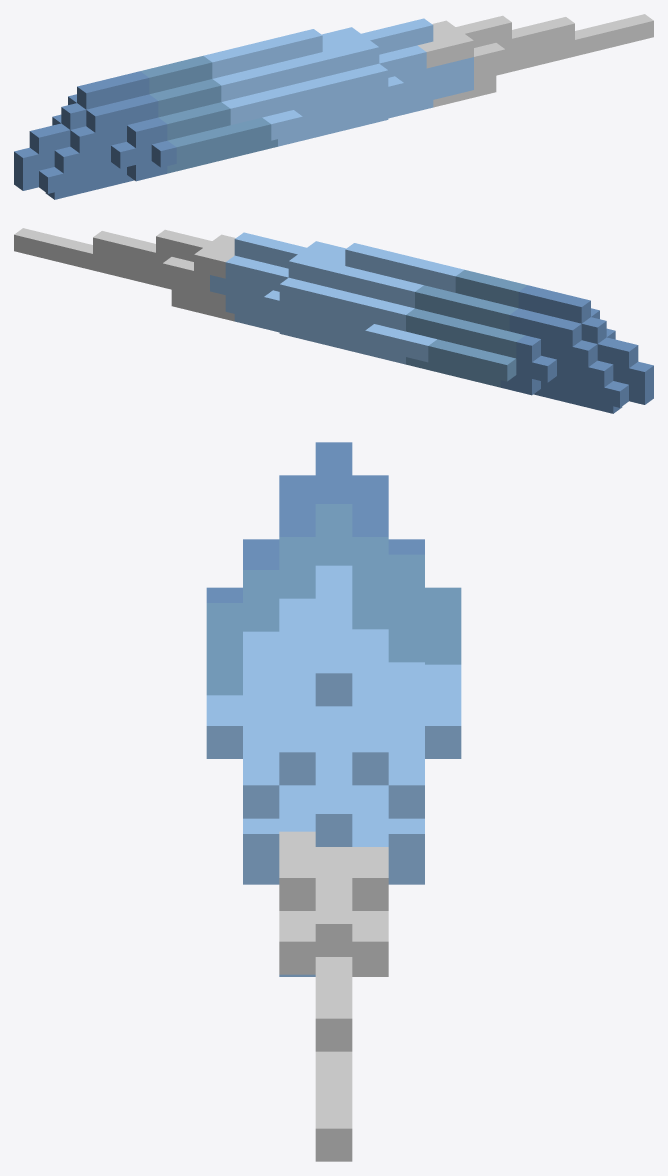
Rendered from Blizard.obj.
3 renders of one model, top to bottom at view 1: azimuth 30°, elevation 25°; view 2: azimuth 150°, elevation 25°; view 3: azimuth 270°, elevation 25°, orthographic. The views are drawn at different scales.
Size of the model in its own units: 4 by 0.6 by 0.7.
1 material, 1 textured.
